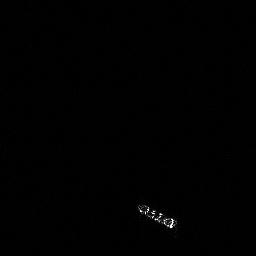ship: (134, 200, 179, 233)
